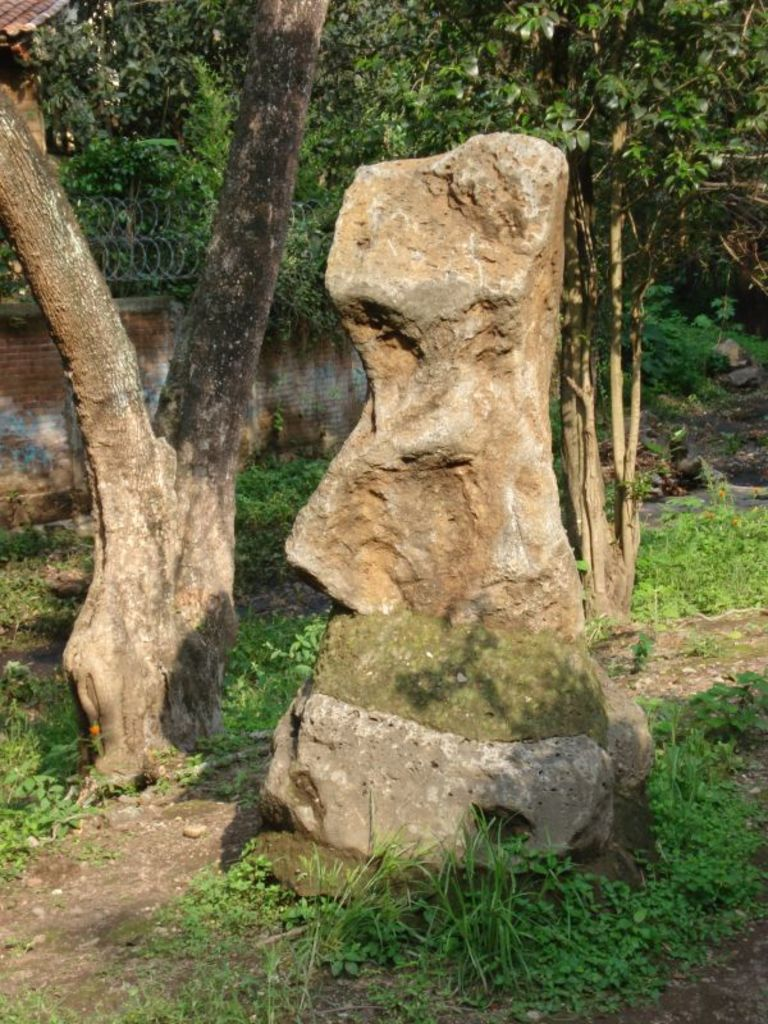Tree: (0, 0, 766, 797)
